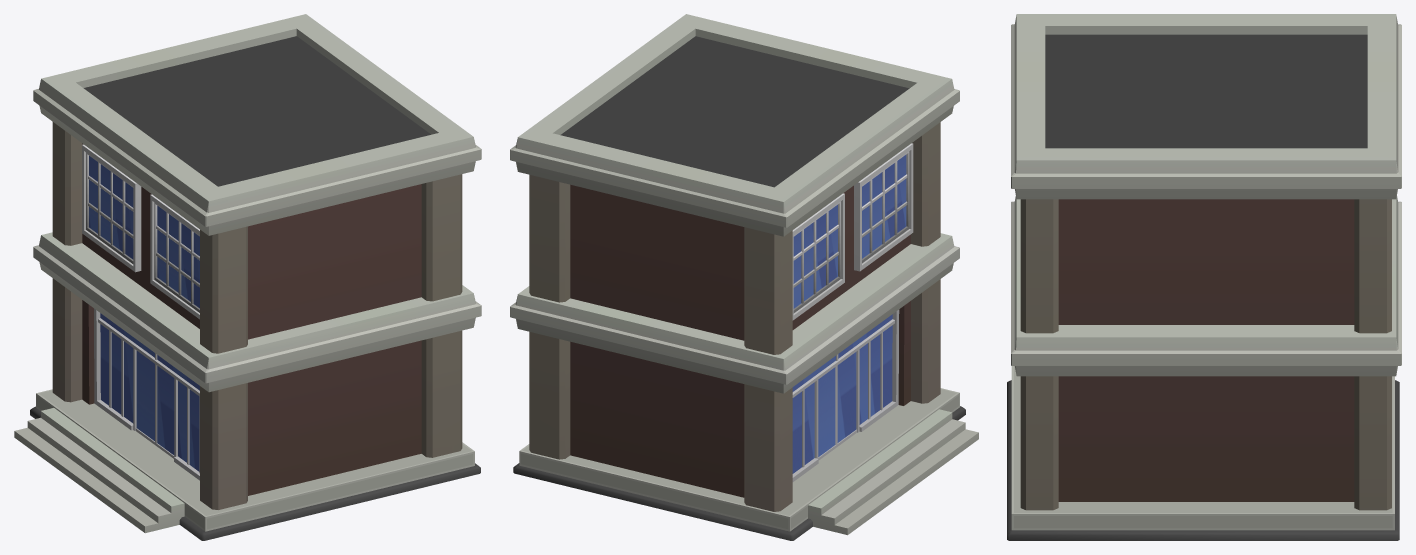
File: Building_9_2_DD.fbx
3 views of the same model, side by side, from view 1: azimuth 30°, elevation 25°; view 2: azimuth 150°, elevation 25°; view 3: azimuth 270°, elevation 25° (orthographic). The views are drawn at different scales.
Parts seen in each view (by area): view 1: Building_9_2_DD; view 2: Building_9_2_DD; view 3: Building_9_2_DD.
Part boxes in pixels (x1,y1,x2,y2): Building_9_2_DD: [14, 14, 481, 540]; Building_9_2_DD: [510, 14, 978, 540]; Building_9_2_DD: [1007, 14, 1401, 540].
Bounding box in the file's own units: 947 × 958 × 906.
